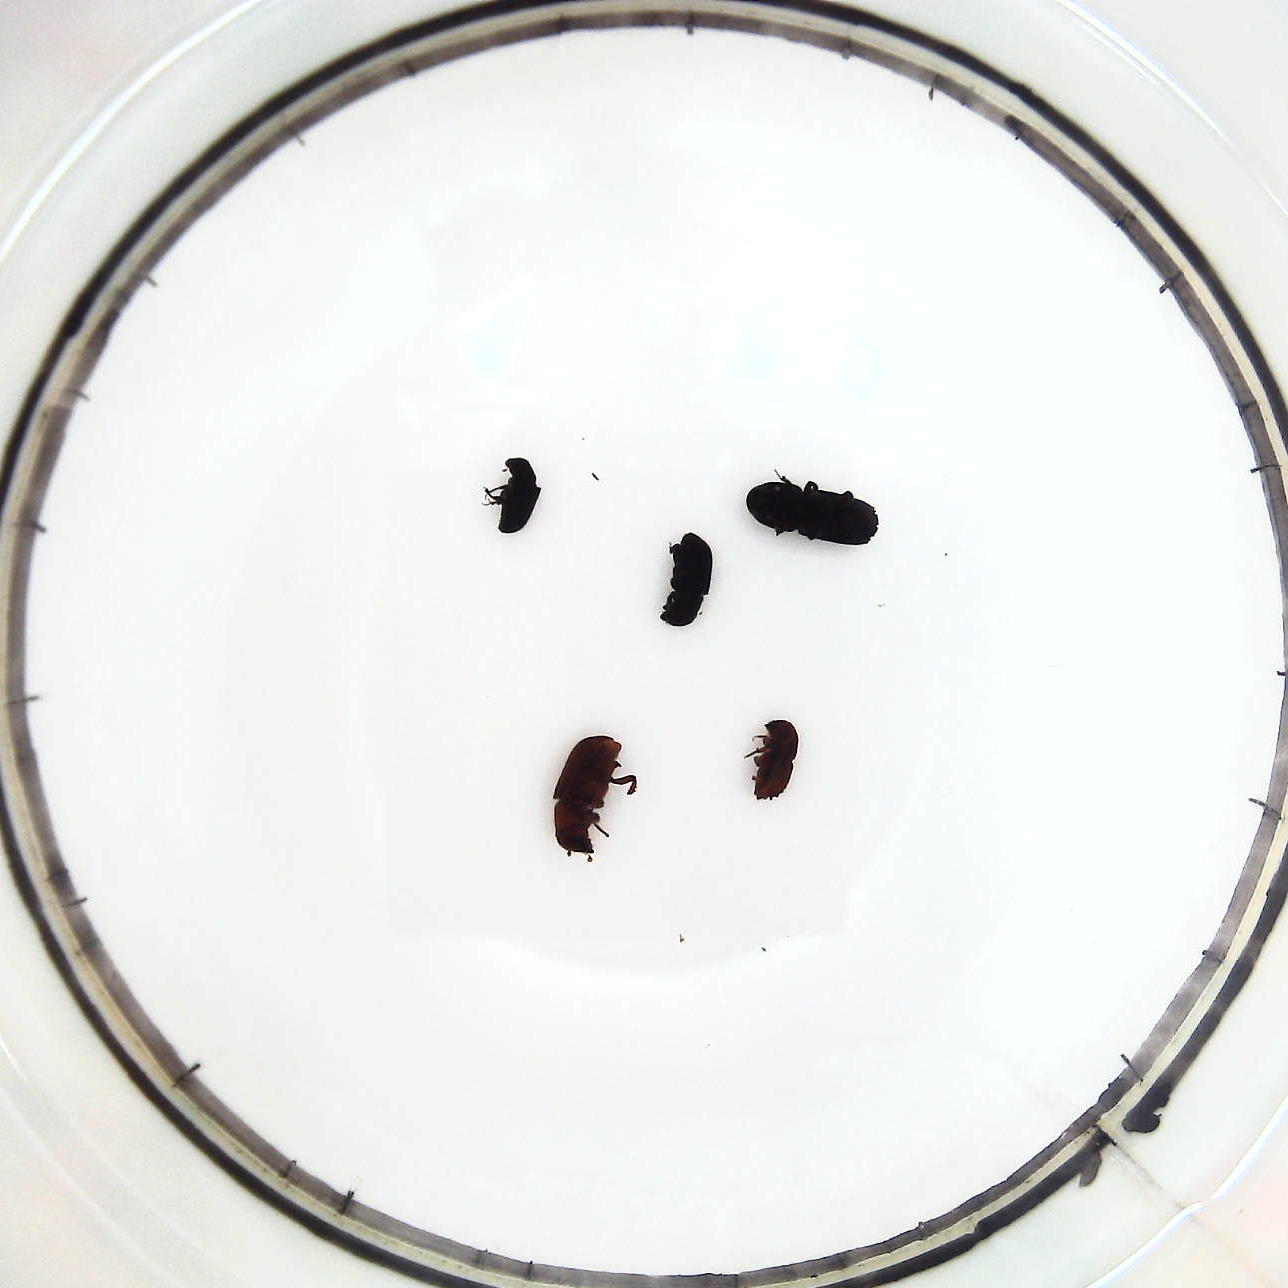Boerner: (737, 465, 883, 556)
Leconte: (548, 729, 644, 861)
armandi: (659, 531, 719, 636)
coleoptera: (478, 451, 544, 539)
linnaeus: (744, 717, 803, 809)
